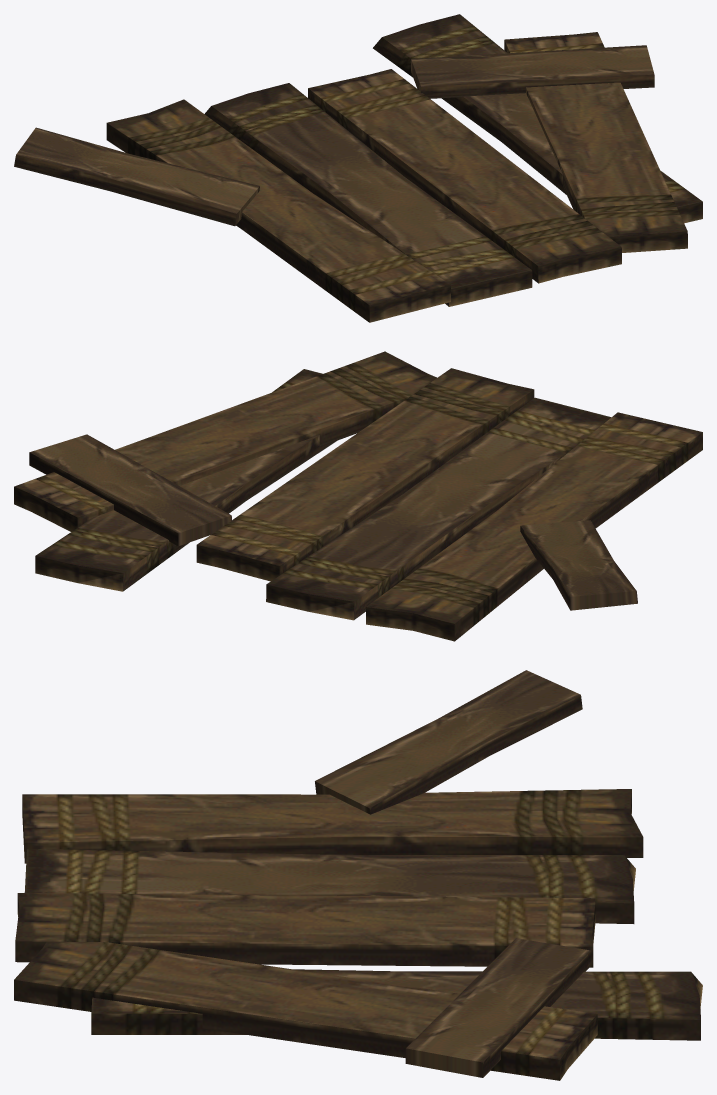
The model's file is 10401_wood01.FBX.
3 views of the same model, one above another, from view 1: azimuth 30°, elevation 25°; view 2: azimuth 150°, elevation 25°; view 3: azimuth 270°, elevation 25° (orthographic). The views are drawn at different scales.
Parts seen in each view (by area): view 1: 10401_wood01; view 2: 10401_wood01; view 3: 10401_wood01.
Boxes of the visible parts, box(x1,y1,x2,y2) form: 10401_wood01: box(14, 14, 702, 322); 10401_wood01: box(14, 351, 702, 641); 10401_wood01: box(14, 670, 702, 1080).
Size of the model in its own units: 908 by 79 by 732.
